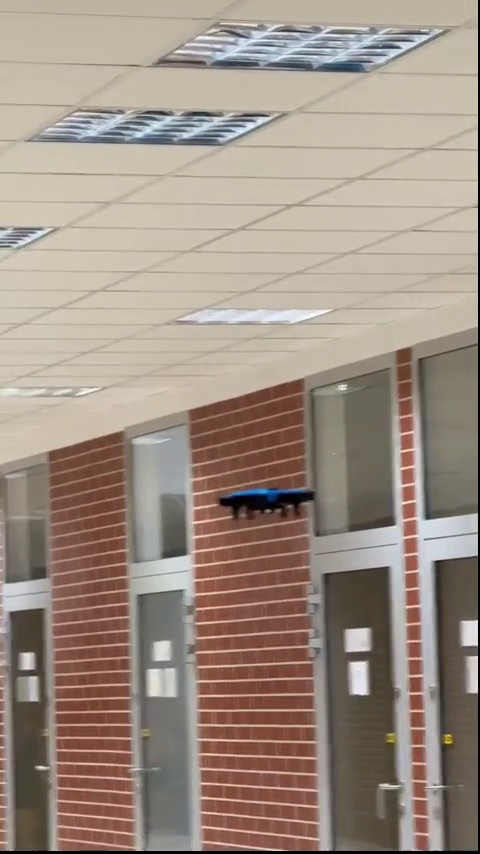drone: (216, 482, 318, 519)
